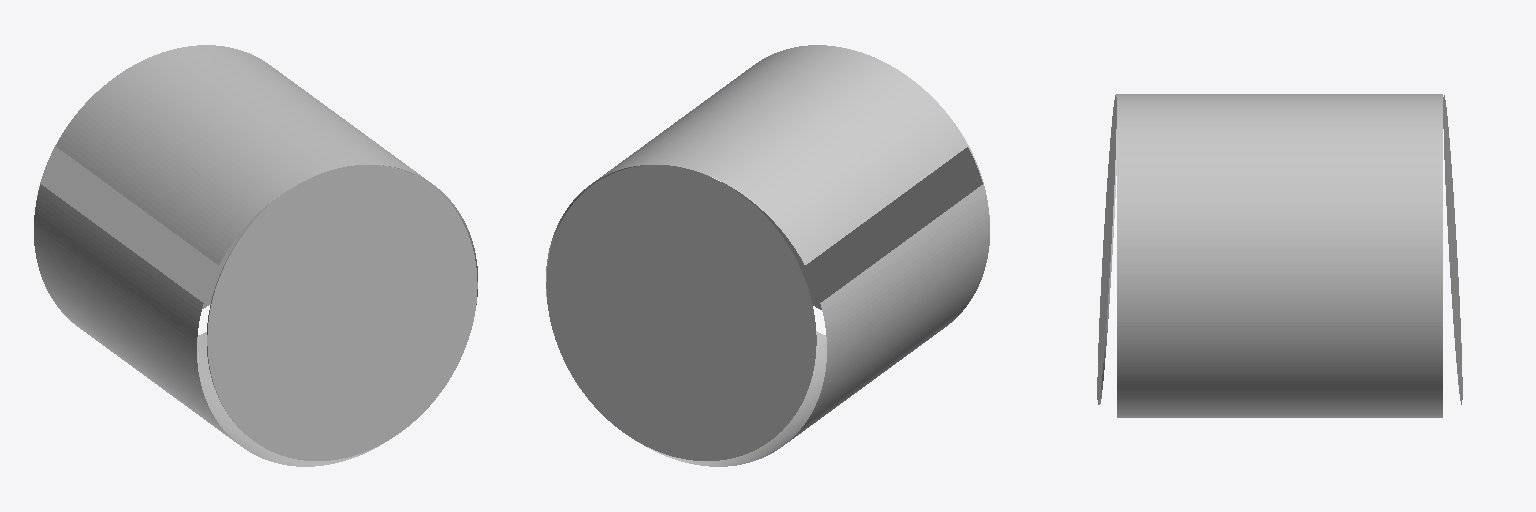
Rendered from plane bend88.obj.
3 views of the same model, side by side, from view 1: azimuth 30°, elevation 25°; view 2: azimuth 150°, elevation 25°; view 3: azimuth 270°, elevation 25° (orthographic).
Parts seen in each view (by area): view 1: Circle, Plane, Circle.001; view 2: Circle.001, Plane, Circle; view 3: Plane, Circle, Circle.001.
Part boxes in pixels (left/top/right/bottom): Circle: left=207, top=165, right=477, bottom=460; Plane: left=34, top=45, right=477, bottom=466; Circle.001: left=36, top=69, right=281, bottom=308; Circle.001: left=546, top=165, right=816, bottom=460; Plane: left=546, top=45, right=989, bottom=466; Circle: left=722, top=69, right=987, bottom=309; Plane: left=1117, top=94, right=1442, bottom=417; Circle: left=1097, top=94, right=1116, bottom=404; Circle.001: left=1443, top=95, right=1462, bottom=404.
Size of the model in its own units: 1.99 by 1.99 by 2.24.